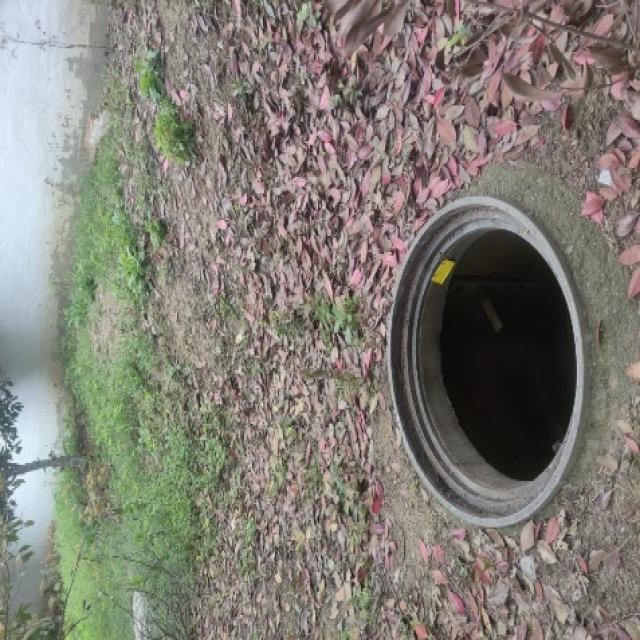Faulty: (372, 194, 610, 542)
